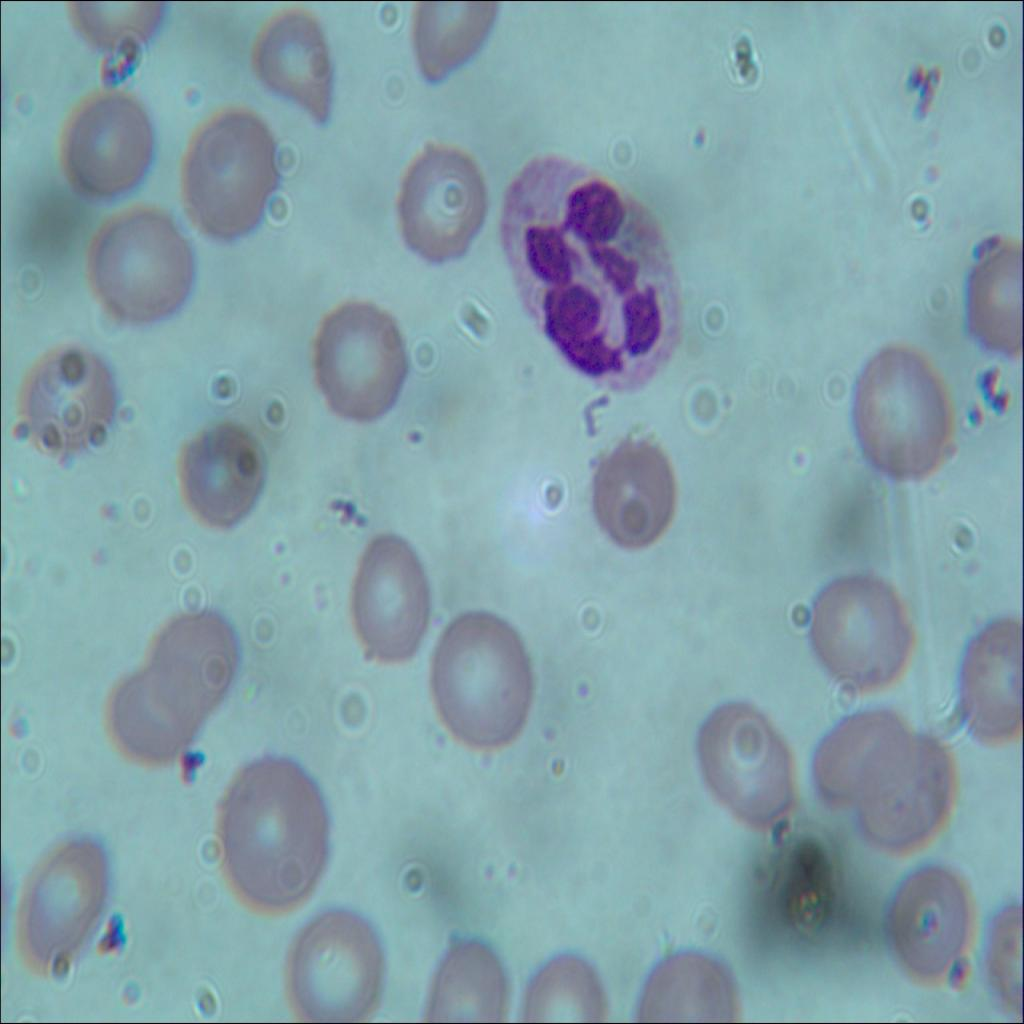Eritrosit: (690, 685, 798, 838), (419, 598, 529, 746), (218, 758, 326, 906), (803, 562, 915, 699), (18, 826, 116, 977), (846, 346, 956, 476), (306, 288, 406, 428), (341, 522, 433, 672), (179, 118, 282, 248), (281, 888, 379, 1023), (576, 428, 683, 548), (391, 132, 489, 262), (86, 202, 192, 319), (18, 342, 118, 464), (181, 414, 271, 547), (878, 856, 969, 986), (854, 737, 956, 852), (55, 95, 155, 197), (103, 664, 209, 760), (806, 707, 908, 804), (246, 6, 330, 118), (152, 608, 238, 710), (956, 618, 1023, 735), (409, 0, 491, 95), (431, 932, 511, 1023), (958, 236, 1023, 348), (515, 942, 603, 1023)
Neutrofil: (498, 148, 684, 399)
Platelet: (394, 417, 435, 458), (566, 674, 603, 711), (958, 393, 988, 434), (535, 708, 561, 754), (686, 112, 708, 151), (923, 162, 942, 185)
